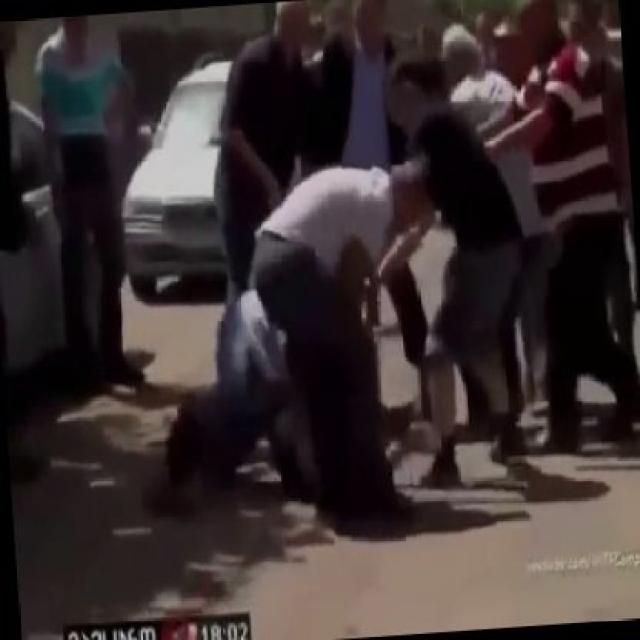fight: (150, 145, 437, 551)
non-fight: (0, 16, 200, 416), (472, 0, 640, 456), (380, 46, 541, 482), (200, 0, 346, 309)
